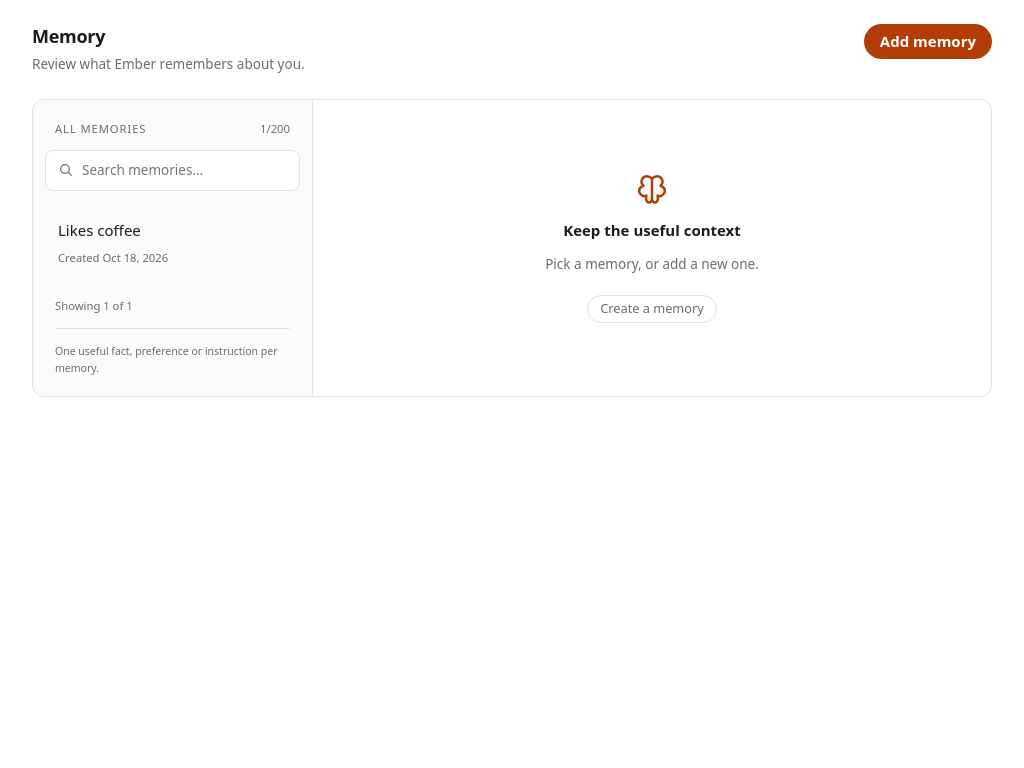
Test case: MemoryView › edits with the original text as a concurrency check
This screenshot has width=1024, height=768.
Click the button "Likes coffee Created Oct 18, 2026". click: (172, 242)
box: x1=45 y1=203 x2=300 y2=281
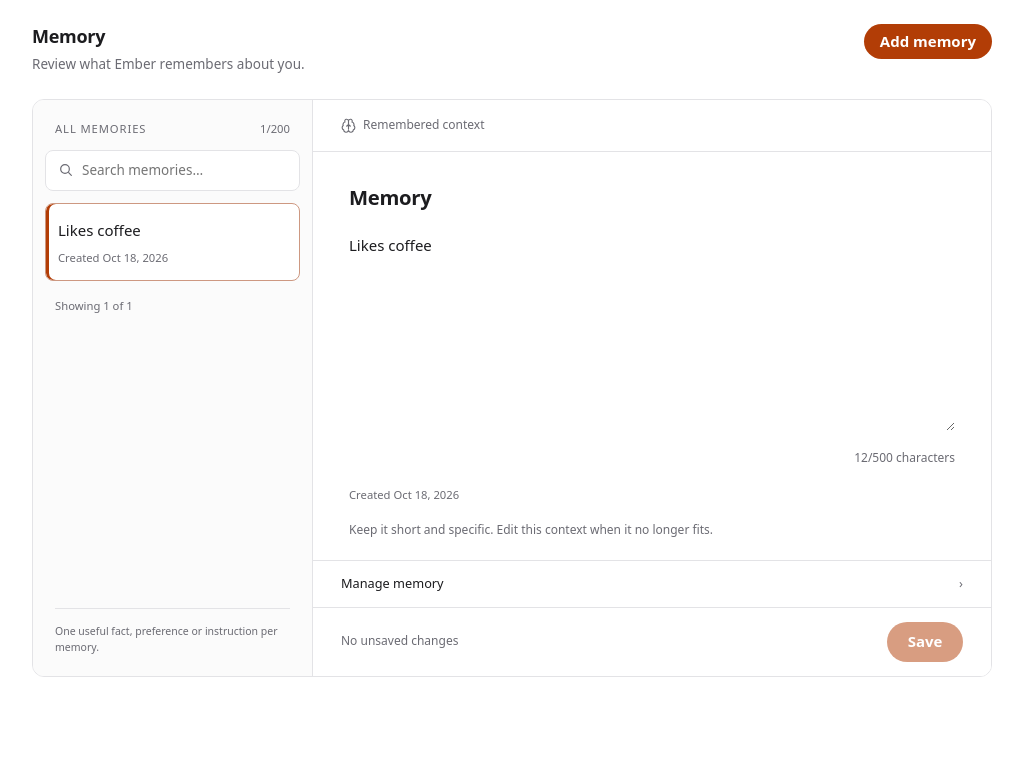
Replace the text in the text box labelled "Memory" with "Likes tea". click: (652, 331)
box: x1=349 y1=231 x2=955 y2=431
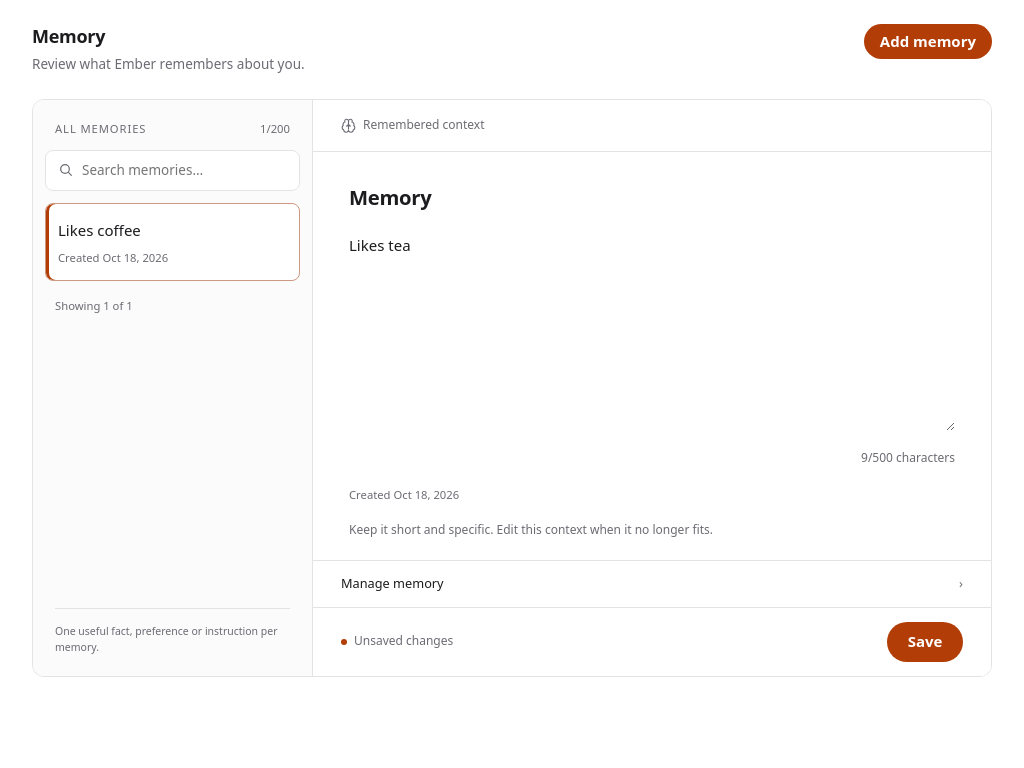
Submit the form, box x1=313 y1=100 x2=991 y2=676
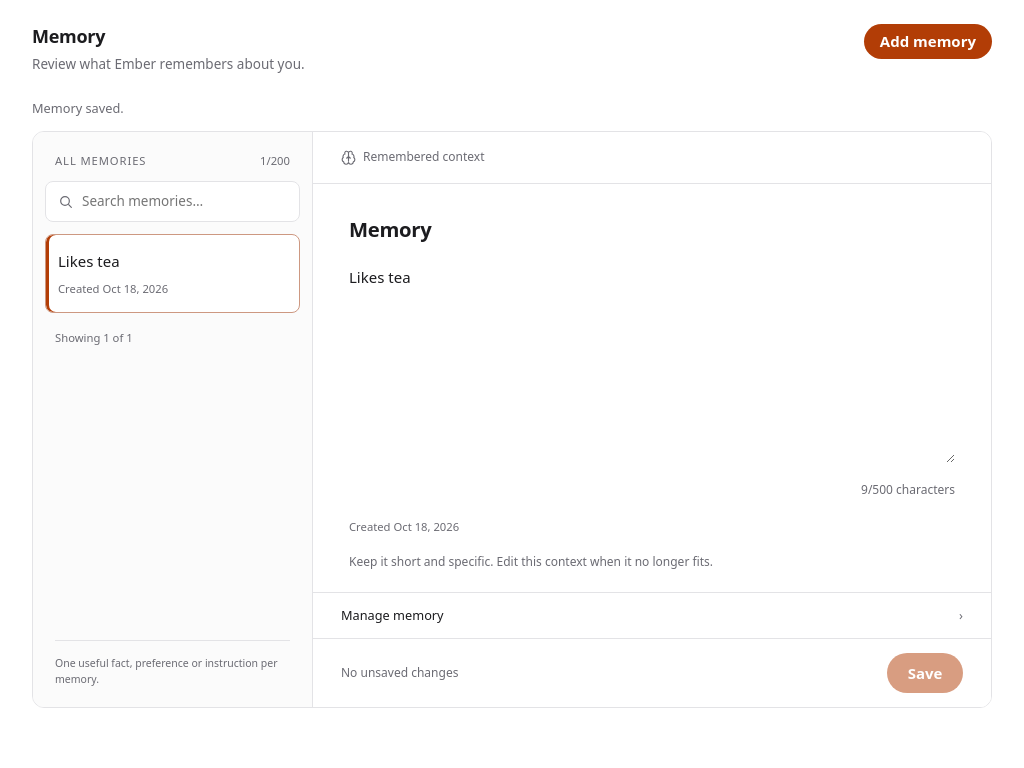
Now the element showing "Likes tea Created Oct 18, 2026" is shown, box x1=45 y1=234 x2=300 y2=313
